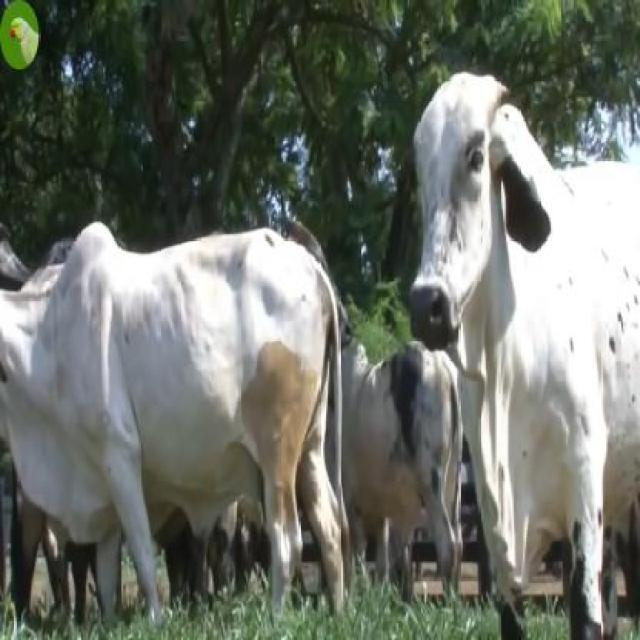Cow: (406, 70, 639, 638)
